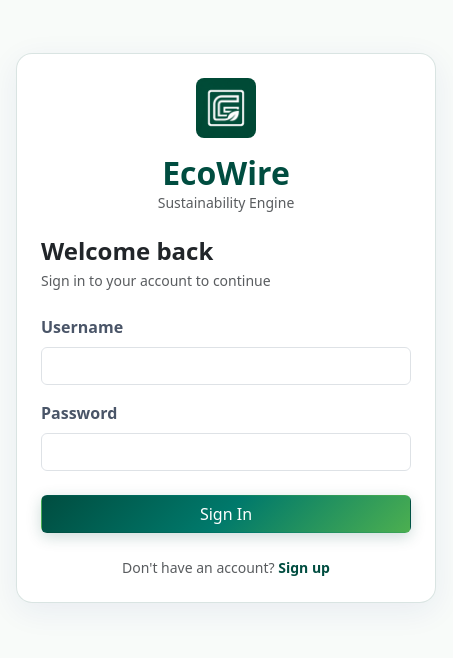
it: LoginPage — unit tests › clears server error when user types in a field
Type "testuser" into the field labelled "Username".
click(226, 366); type("testuser")  # box [41, 347, 411, 385]
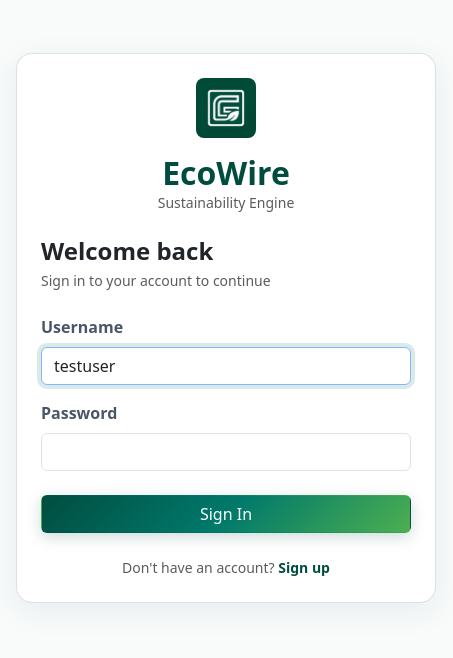
Type "testpass" into the password field labelled "Password".
click(226, 452); type("testpass")  # box [41, 433, 411, 471]
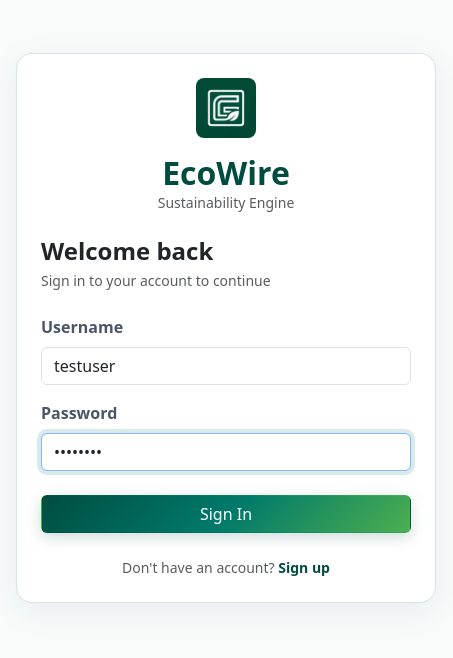
Click the button "Sign In".
click(226, 514)  # box [41, 495, 411, 533]
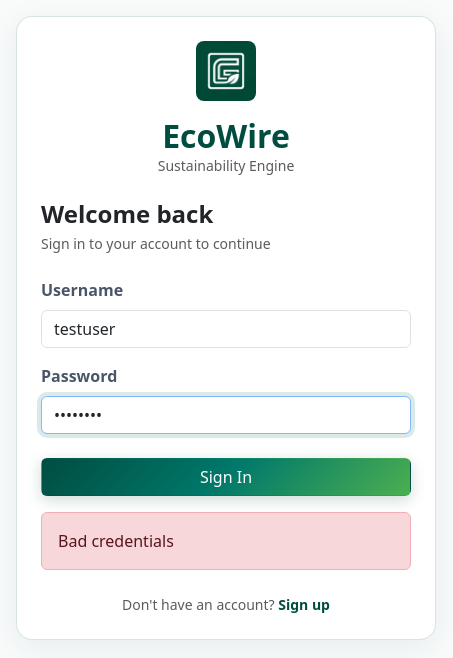
Now the message "Bad credentials" is shown, box [41, 512, 411, 570]
Note: Typing in username should dismiss the alert
Type "x" into the field labelled "Username".
click(226, 329); type("x")  # box [41, 310, 411, 348]
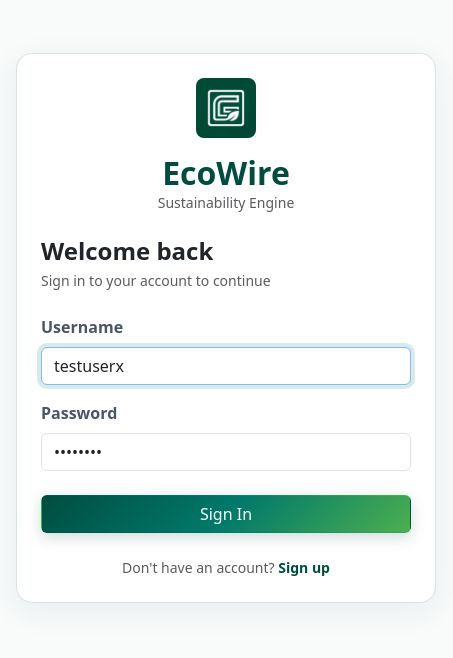
Now the message "Bad credentials" is gone
